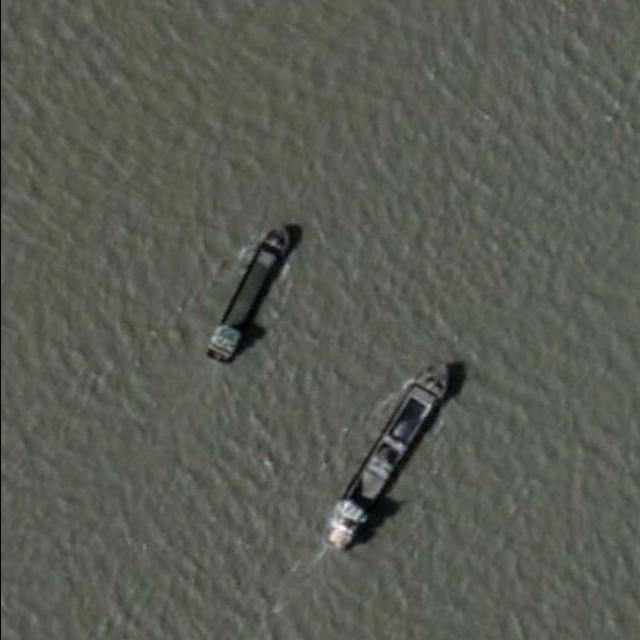ship: (324, 356, 456, 550), (204, 220, 296, 364)
